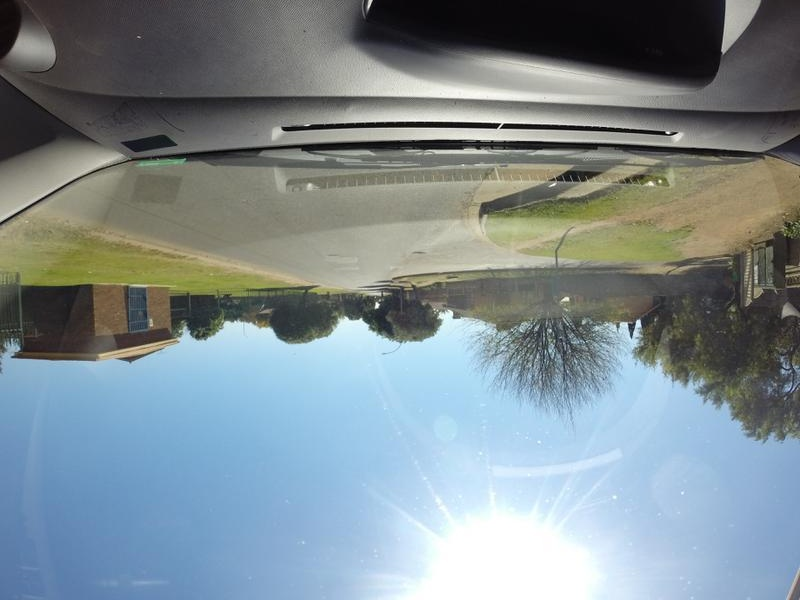pothole: (389, 248, 432, 258)
